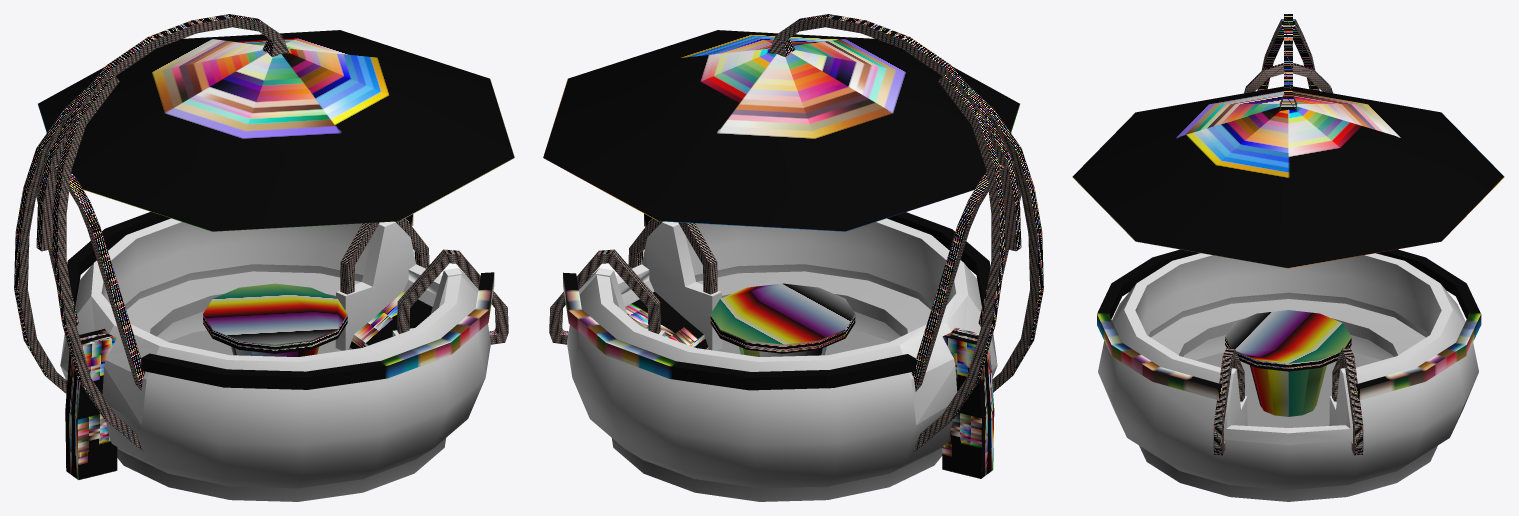
Rendered from VE_HG_Donutboat_001_Collider.FBX.
The picture shows the model from 3 angles, left to right: view 1: azimuth 30°, elevation 25°; view 2: azimuth 150°, elevation 25°; view 3: azimuth 270°, elevation 25°; orthographic projection. The views are drawn at different scales.
Parts seen in each view (by area): view 1: VE_HG_Donutboat_001_Collider; view 2: VE_HG_Donutboat_001_Collider; view 3: VE_HG_Donutboat_001_Collider.
Part boxes in pixels (<box>): VE_HG_Donutboat_001_Collider: <box>14,14,514,501</box>; VE_HG_Donutboat_001_Collider: <box>543,14,1043,501</box>; VE_HG_Donutboat_001_Collider: <box>1072,14,1504,501</box>.
Size of the model in its own units: 229 by 206 by 216.
